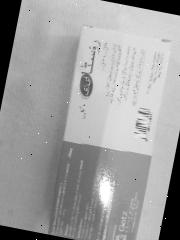paper: (41, 24, 174, 240)
